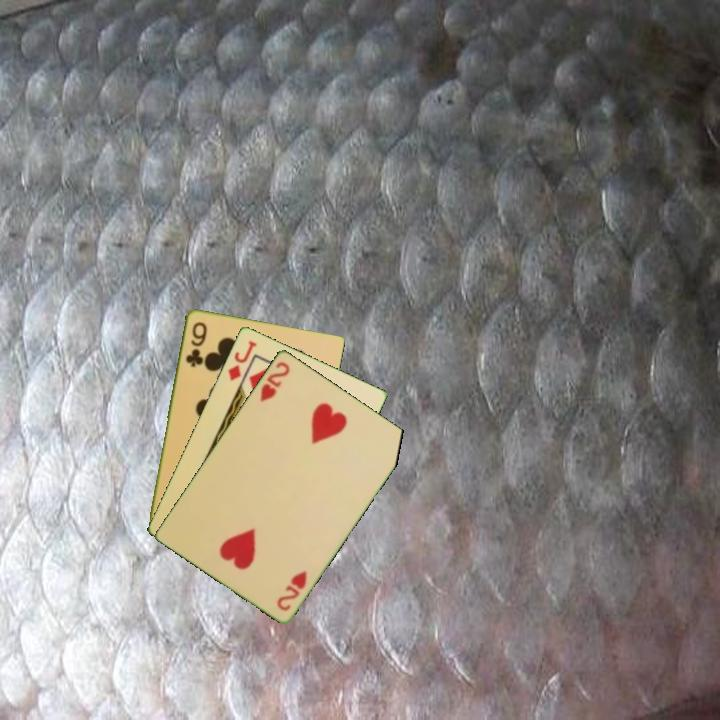2h: (256, 358, 293, 405), (273, 566, 310, 613)
9c: (182, 318, 209, 370)
Jd: (224, 337, 260, 384)
